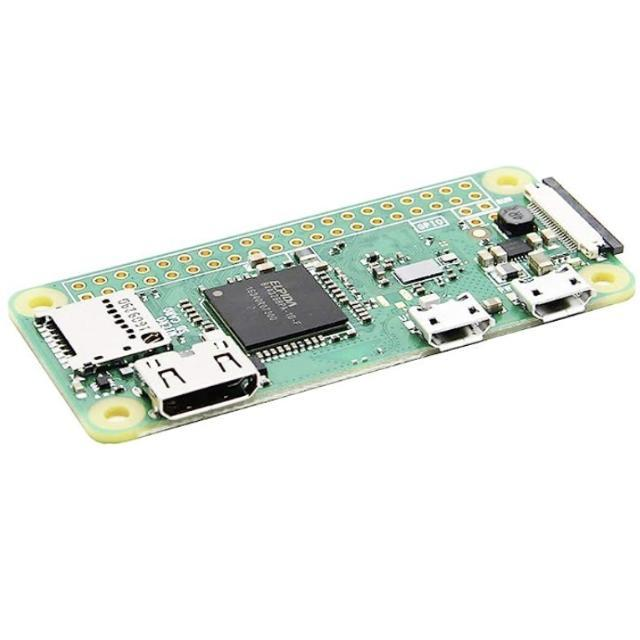Raspberry-Pi-Zero-W: (11, 166, 634, 444)
